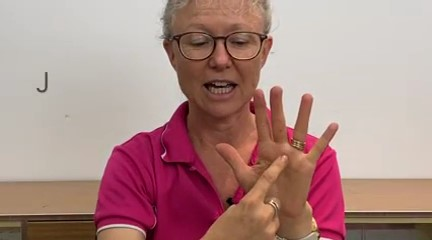J: (212, 83, 353, 238)
